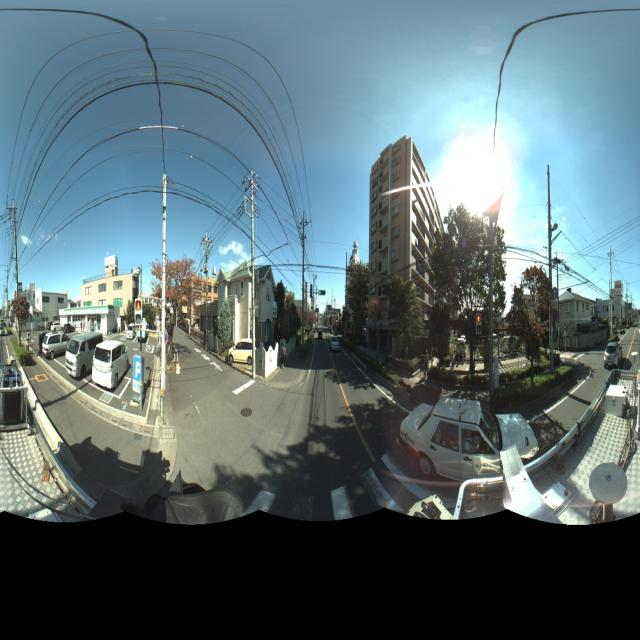b_1: (369, 138, 412, 346), (64, 257, 146, 338), (222, 259, 272, 366), (409, 142, 435, 316), (31, 282, 73, 336), (558, 284, 594, 337), (595, 274, 624, 326)
b_2: (368, 204, 462, 371), (145, 261, 221, 354), (501, 266, 562, 381), (239, 285, 311, 368), (340, 244, 369, 366)
